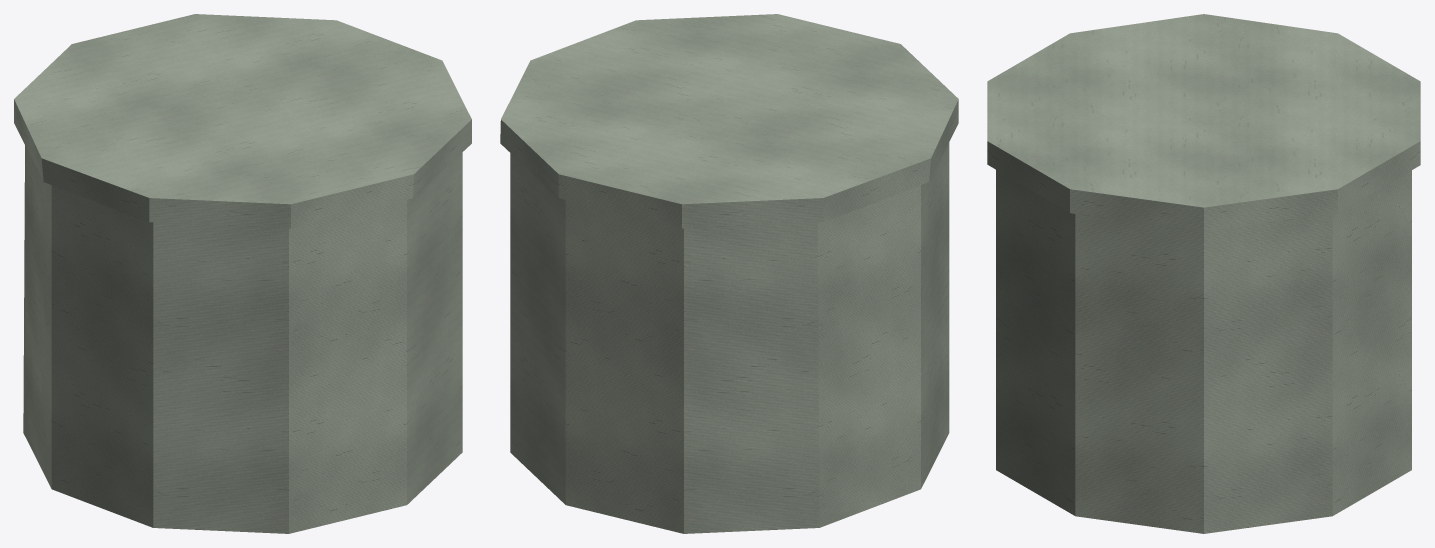
The model's file is bucket_v1.glb.
The picture shows the model from 3 angles, left to right: view 1: azimuth 30°, elevation 25°; view 2: azimuth 150°, elevation 25°; view 3: azimuth 270°, elevation 25°; orthographic projection.
Parts seen in each view (by area): view 1: Variant_bucket_1; view 2: Variant_bucket_1; view 3: Variant_bucket_1.
Part boxes in pixels (<box>): Variant_bucket_1: <box>14,14,471,533</box>; Variant_bucket_1: <box>500,14,958,533</box>; Variant_bucket_1: <box>987,14,1420,533</box>.
Size of the model in its own units: 0.3457 by 0.275 by 0.3272.
1 material, 1 textured.
